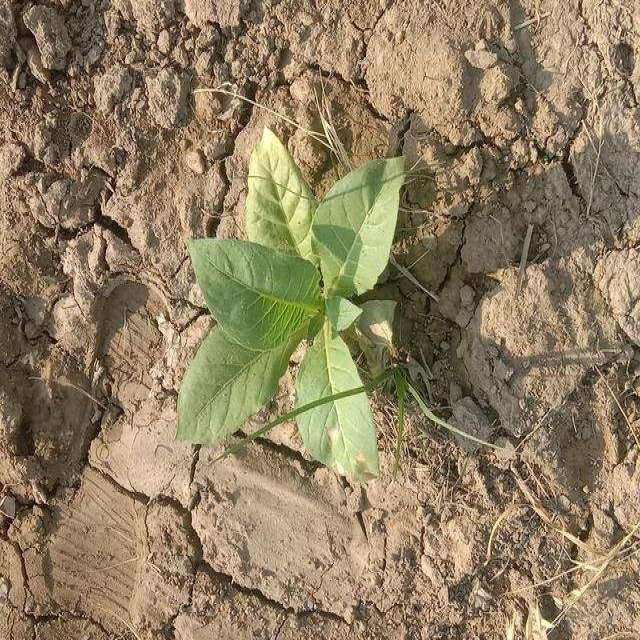crop: (172, 119, 419, 491)
